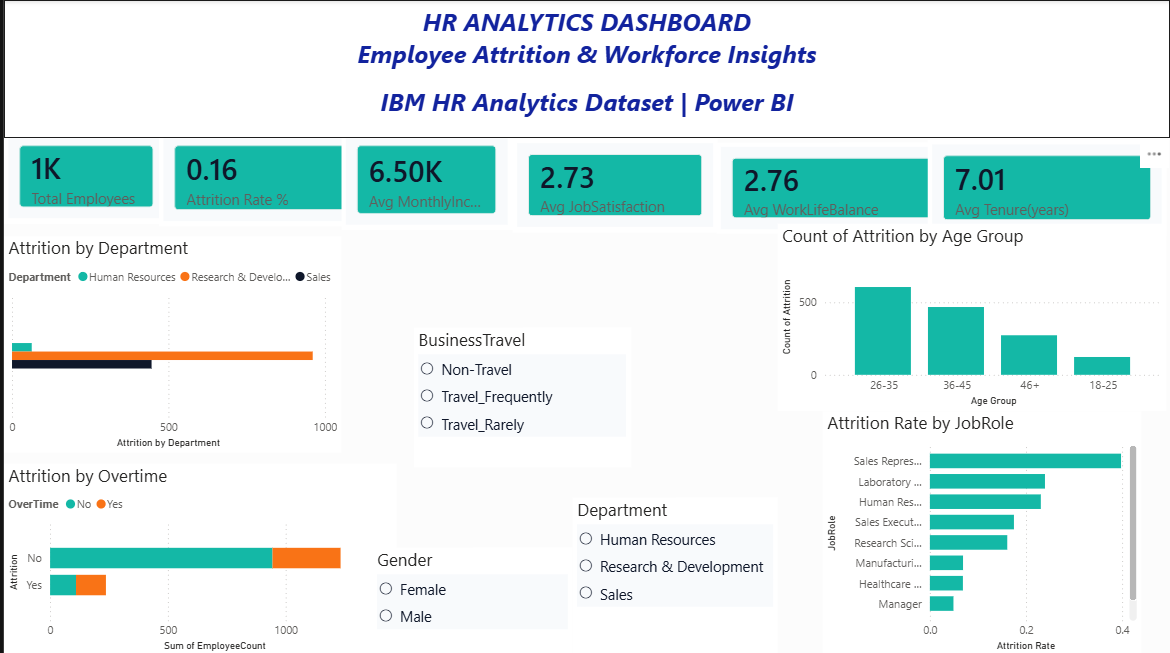

What the dashboard file says about the page in this screenshot:
{"tool":"powerbi","page":{"name":"Page 1","canvas":[1280,720],"ordinal":0},"visuals":[{"type":"cardVisual","fields":{"Data":["Sum(HR_DATASET.EmployeeCount)"]},"box":[0,142.7,181.1,102.9],"z":0},{"type":"cardVisual","fields":{"Data":["Avg(HR_DATASET.JobSatisfaction)"]},"box":[558.5,152.3,225,102.9],"z":1000},{"type":"cardVisual","fields":{"Data":["Avg(HR_DATASET.WorkLifeBalance)"]},"box":[782.2,156.4,269,100.2],"z":2000},{"type":"cardVisual","fields":{"Data":["Avg(HR_DATASET.YearsAtCompany)"]},"box":[1014.1,153.7,262.1,105.7],"z":3000},{"type":"cardVisual","fields":{"Data":["HR_DATASET.Attrition Rate","select"]},"box":[170.2,142.7,233.3,105.7],"z":5000},{"type":"cardVisual","fields":{"Data":["Avg(HR_DATASET.MonthlyIncome)"]},"box":[370.5,142.7,188,109.8],"z":6000},{"type":"shape","box":[0,0,1280.3,97.4],"z":7000},{"type":"textbox","box":[0,0,1280.3,152.3],"z":8000},{"type":"clusteredBarChart","title":"Attrition by Department","fields":{"Category":["HR_DATASET.Attrition"],"Series":["HR_DATASET.Department"],"Y":["Sum(HR_DATASET.EmployeeCount)"]},"box":[0,248.4,360.9,248.4],"z":9000},{"type":"barChart","fields":{"Category":["HR_DATASET.JobRole"],"Y":["HR_DATASET.Attrition Rate"]},"box":[898.8,451.5,349.9,269],"z":10000},{"type":"barChart","title":"Attrition by Overtime","fields":{"Category":["HR_DATASET.Attrition"],"Y":["Sum(HR_DATASET.EmployeeCount)"],"Series":["HR_DATASET.OverTime"]},"box":[0,509.1,430.9,211.3],"z":11000},{"type":"listSlicer","fields":{"Values":["HR_DATASET.Gender"]},"box":[404.8,601,219.6,119.4],"z":12000},{"type":"listSlicer","fields":{"Values":["HR_DATASET.BusinessTravel"]},"box":[450.1,359.5,238.8,153.7],"z":13000},{"type":"listSlicer","fields":{"Values":["HR_DATASET.Department"]},"box":[624.4,546.1,225,174.3],"z":14000},{"type":"clusteredColumnChart","fields":{"Y":["CountNonNull(HR_DATASET.Attrition)"],"Category":["HR_DATASET.Age Group"]},"box":[849.4,245.6,426.8,205.8],"z":15000}]}

Visuals, with their boxes in screenshot pixels (x1, y1, x2, y2), scaled from the page's 1280x720 canvas onto the 1170x653 screenshot:
cardVisual - Sum(HR_DATASET.EmployeeCount): [x1=0, y1=129, x2=166, y2=223]
cardVisual - Avg(HR_DATASET.JobSatisfaction): [x1=511, y1=138, x2=716, y2=231]
cardVisual - Avg(HR_DATASET.WorkLifeBalance): [x1=715, y1=142, x2=961, y2=233]
cardVisual - Avg(HR_DATASET.YearsAtCompany): [x1=927, y1=139, x2=1167, y2=235]
cardVisual - HR_DATASET.Attrition Rate x select: [x1=156, y1=129, x2=369, y2=225]
cardVisual - Avg(HR_DATASET.MonthlyIncome): [x1=339, y1=129, x2=511, y2=229]
shape: [x1=0, y1=0, x2=1169, y2=88]
textbox: [x1=0, y1=0, x2=1169, y2=138]
"Attrition by Department" clusteredBarChart: [x1=0, y1=225, x2=330, y2=451]
barChart - HR_DATASET.JobRole x HR_DATASET.Attrition Rate: [x1=822, y1=409, x2=1141, y2=652]
"Attrition by Overtime" barChart: [x1=0, y1=462, x2=394, y2=652]
listSlicer - HR_DATASET.Gender: [x1=370, y1=545, x2=571, y2=652]
listSlicer - HR_DATASET.BusinessTravel: [x1=411, y1=326, x2=630, y2=465]
listSlicer - HR_DATASET.Department: [x1=571, y1=495, x2=776, y2=652]
clusteredColumnChart - CountNonNull(HR_DATASET.Attrition) x HR_DATASET.Age Group: [x1=776, y1=223, x2=1167, y2=409]
